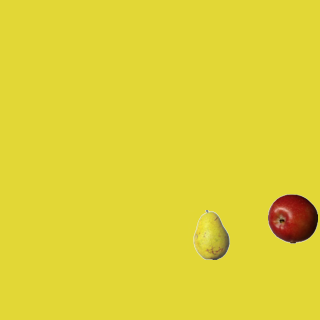Apple Braeburn: (267, 193, 317, 243)
Pear Monster: (186, 209, 236, 259)
